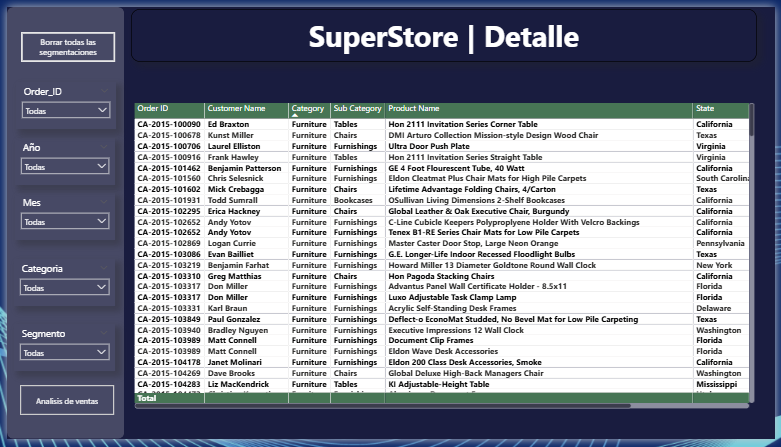

The dashboard page shown, as its layout file describes it:
{"tool":"powerbi","page":{"name":"Detalle","canvas":[1280,720],"ordinal":2},"visuals":[{"type":"shape","box":[0,0,195.3,719.8],"z":0},{"type":"textbox","box":[206.2,3.7,1043.3,87.9],"z":1000},{"type":"slicer","fields":{"Values":["SuperStore.Order_Date.Variación.Jerarquía de fechas.Año"]},"box":[12.8,218.5,167.3,78],"z":2000},{"type":"slicer","fields":{"Values":["SuperStore.Order_Date.Variación.Jerarquía de fechas.Mes"]},"box":[12.8,310.6,167.3,78],"z":3000},{"type":"slicer","fields":{"Values":["Dim_Product.Category"]},"box":[11.3,419.8,168.7,78],"z":4000},{"type":"slicer","title":"Segmento","fields":{"Values":["SuperStore.Segment"]},"box":[11.3,527.5,168.7,78],"z":5000},{"type":"tableEx","fields":{"Values":["SuperStore.Order_ID","Dim_Customer.Customer_Name","Dim_Product.Category","Dim_Product.Sub_Category","Dim_Product.Product_Name","Dim_Location.State","SuperStore.Total ventas","SuperStore.Cantidad de ventas"]},"box":[206.8,154.7,1043.7,519],"z":6000},{"type":"slicer","fields":{"Values":["SuperStore.Order_ID"]},"box":[14.2,124.2,166.7,79.2],"z":7000},{"type":"actionButton","box":[22.9,41.4,157.1,50],"z":8000},{"type":"bookmarkNavigator","box":[21.4,630,157.1,50],"z":9000}]}

Visuals, with their boxes on the page's 1280x720 design canvas (x1, y1, x2, y2). These are canvas units, not pixel positions in the 781x447 screenshot, which may show the page scaled, cropped or inside an application window:
shape: [x1=0, y1=0, x2=195, y2=720]
textbox: [x1=206, y1=4, x2=1250, y2=92]
slicer - SuperStore.Order_Date.Variación.Jerarquía de fechas.Año: [x1=13, y1=218, x2=180, y2=296]
slicer - SuperStore.Order_Date.Variación.Jerarquía de fechas.Mes: [x1=13, y1=311, x2=180, y2=389]
slicer - Dim_Product.Category: [x1=11, y1=420, x2=180, y2=498]
"Segmento" slicer: [x1=11, y1=528, x2=180, y2=606]
tableEx - SuperStore.Order_ID x Dim_Customer.Customer_Name: [x1=207, y1=155, x2=1250, y2=674]
slicer - SuperStore.Order_ID: [x1=14, y1=124, x2=181, y2=203]
actionButton: [x1=23, y1=41, x2=180, y2=91]
bookmarkNavigator: [x1=21, y1=630, x2=178, y2=680]
